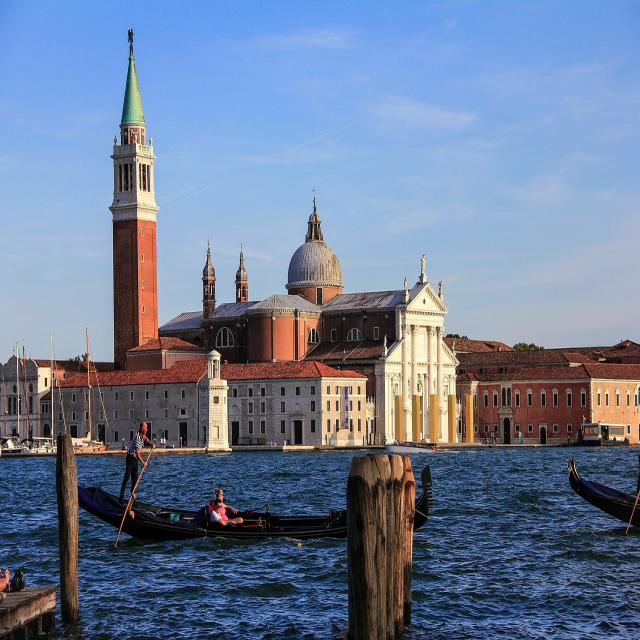boat: (74, 450, 437, 558)
